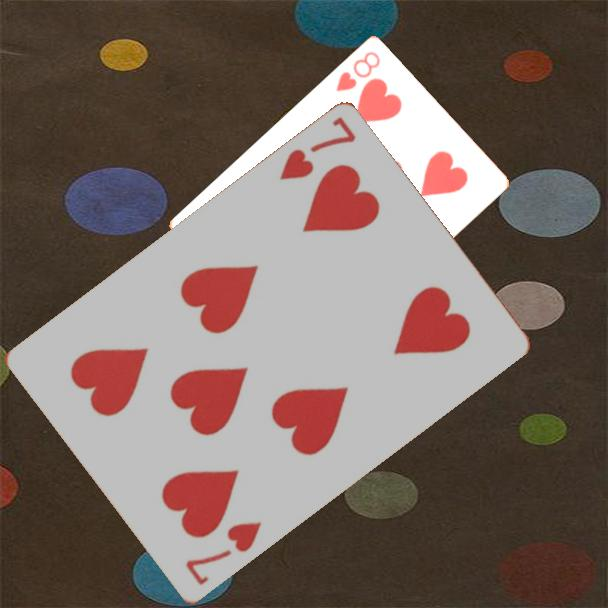h07: (181, 518, 265, 590), (275, 113, 359, 185)
h08: (332, 48, 383, 95)
